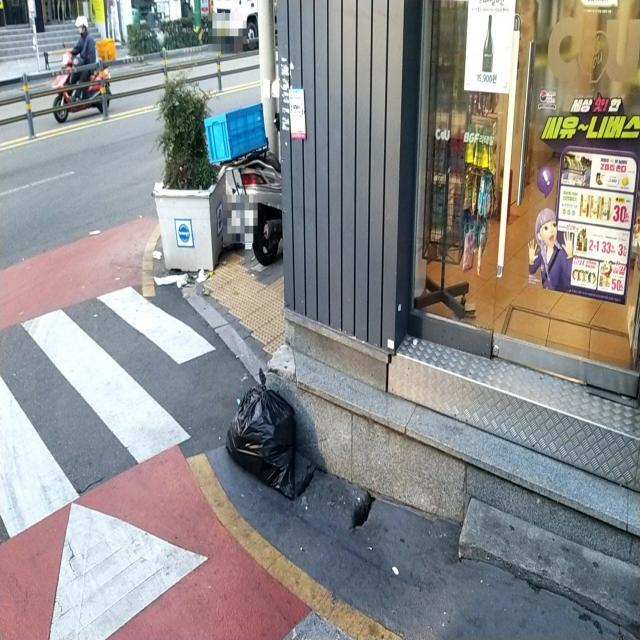Garbage_Bag: (222, 370, 306, 502)
